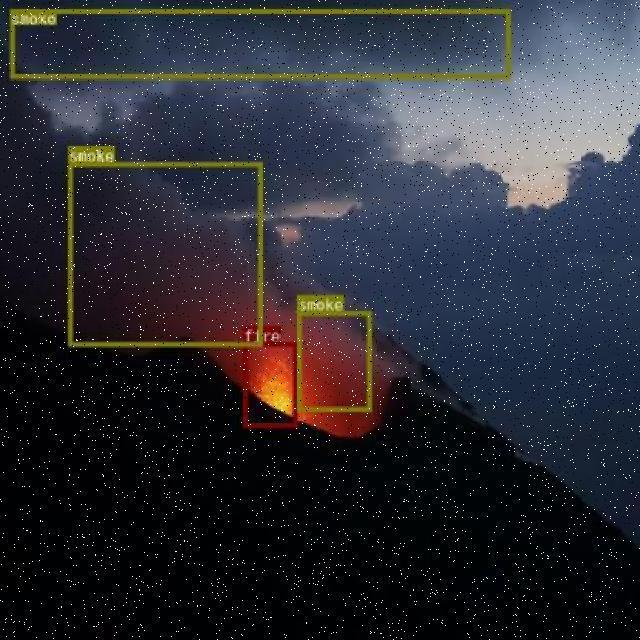Smoke: (10, 9, 510, 77), (4, 194, 197, 314), (290, 311, 364, 411)
